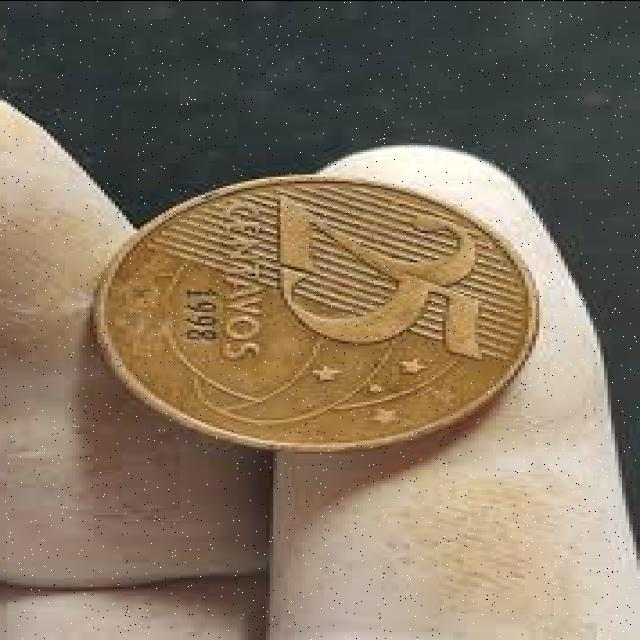25 cent: (106, 178, 538, 446)
